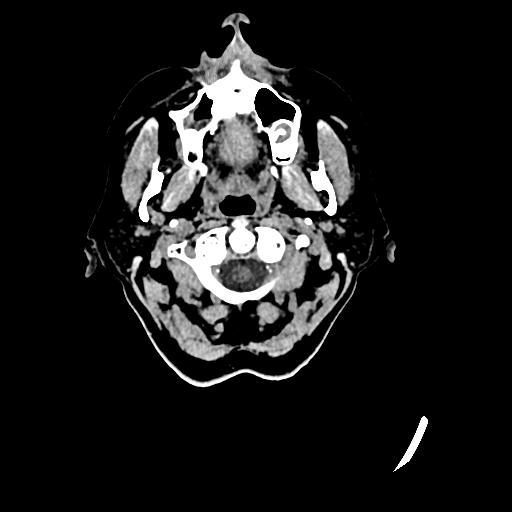Normal_Brain: (73, 6, 395, 393)
